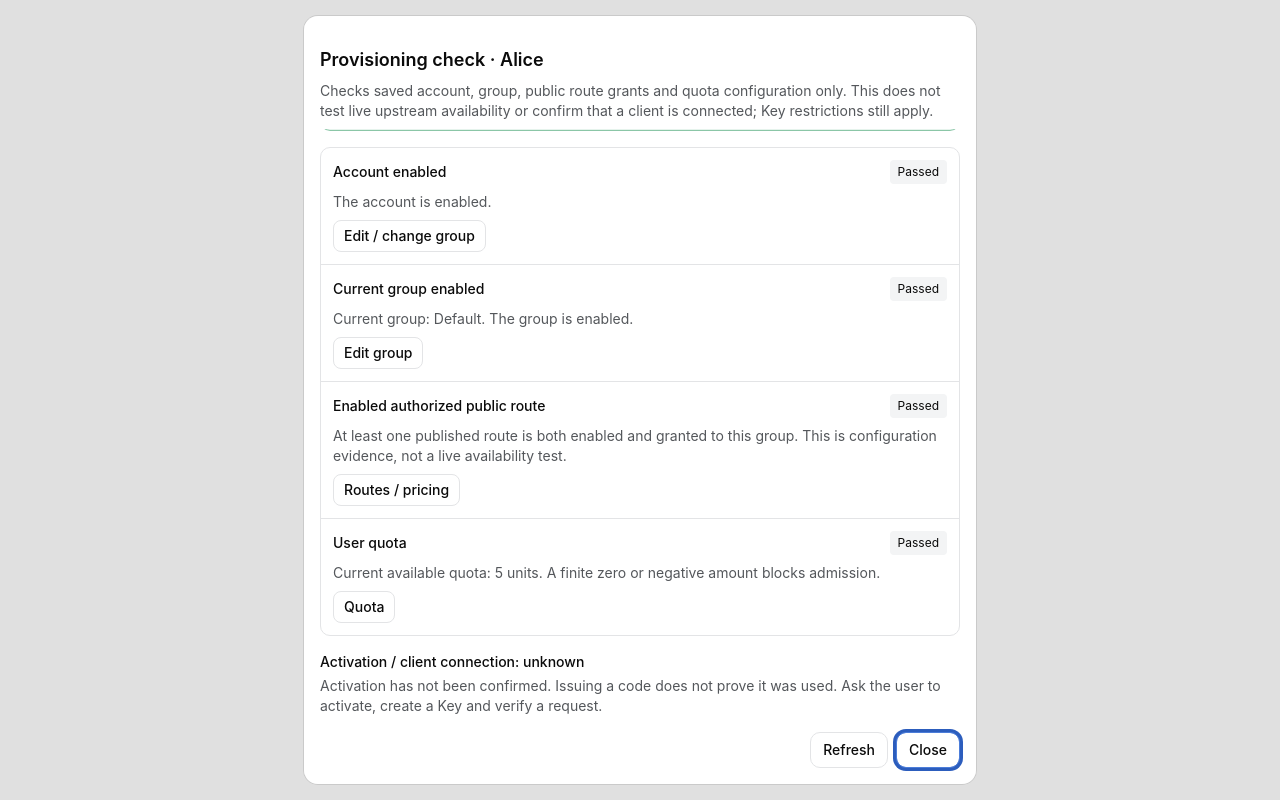
Test: on-demand administrator provisioning facts › refreshes the true current group and loads its grants rather than retaining old permissions
(page scrolled)
Check: the text "Configuration checks passed" is shown, box [320,85,960,131]
Click the button "Refresh". click: {"x": 849, "y": 750}
box: [810,732,888,768]
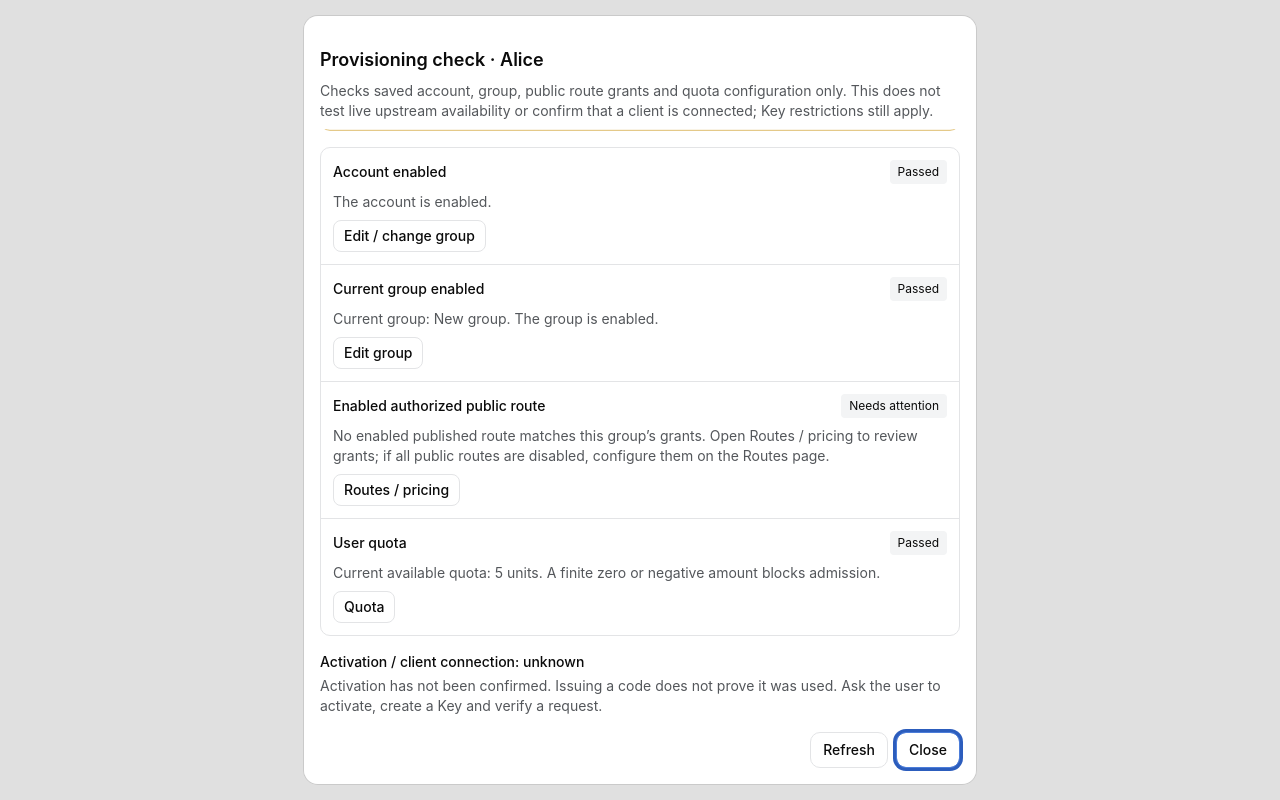
Check: the text "Needs attention" is shown, box [841,394,947,418]
Check: the text "Current group: New group. The group is enabled." is shown, box [333,310,658,327]
Check: the text "Configuration checks passed" is gone
